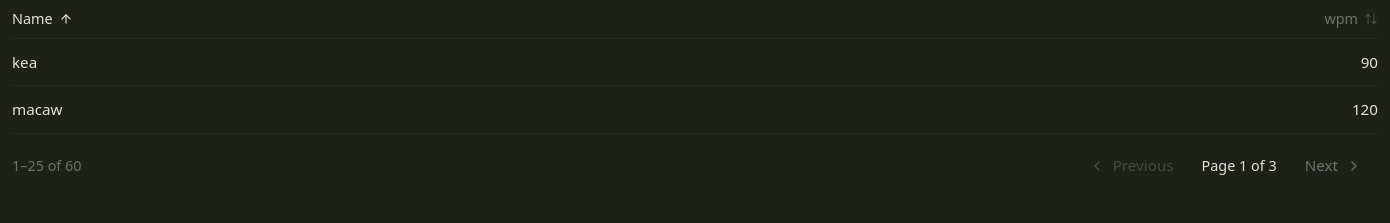
Test case: DataTable sorting and pagination › moves between pages through the URL and shows the range
Expected: the text "1–25 of 60" is shown, [12, 155, 82, 176]
Expected: the button "Previous" is disabled, [1073, 146, 1190, 185]
Click the button "Next": [1333, 166] box [1289, 146, 1378, 185]
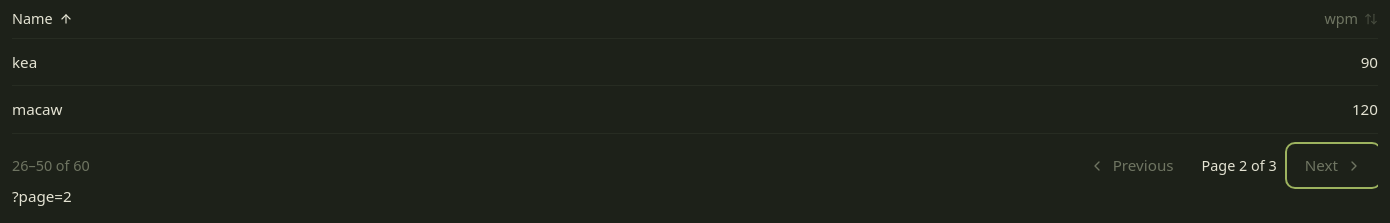
Expected: the text with test id "url" shows "page=2", [12, 186, 72, 206]
Expected: the text "26–50 of 60" is shown, [12, 155, 90, 176]
Click the button "Next": [1333, 166] box [1289, 146, 1378, 185]
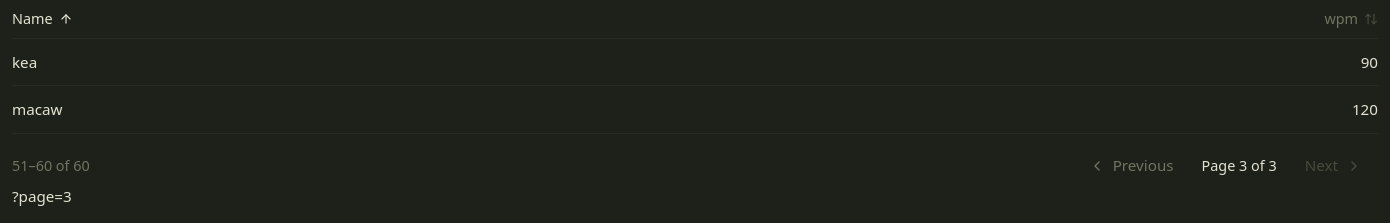
Expected: the text "51–60 of 60" is shown, [12, 155, 90, 176]
Expected: the button "Next" is disabled, [1289, 146, 1378, 185]
